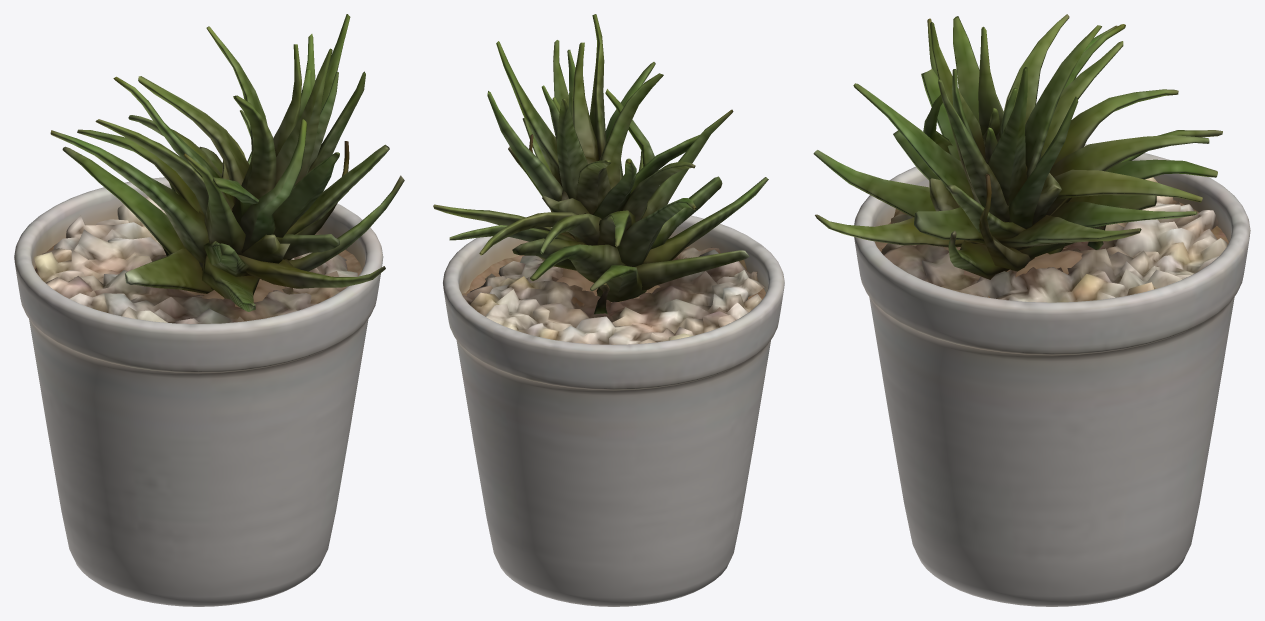
Rendered from potted_plant_04.gltf.
3 views of the same model, side by side, from view 1: azimuth 30°, elevation 25°; view 2: azimuth 150°, elevation 25°; view 3: azimuth 270°, elevation 25° (orthographic). The views are drawn at different scales.
Visible parts, largest first — view 1: potted_plant_04_pot, potted_plant_04_plant, potted_plant_04_ground, potted_plant_04_dirt; view 2: potted_plant_04_pot, potted_plant_04_plant, potted_plant_04_ground, potted_plant_04_dirt; view 3: potted_plant_04_pot, potted_plant_04_plant, potted_plant_04_ground, potted_plant_04_dirt.
Part boxes in pixels (box(x1,y1,x2,y2)): potted_plant_04_pot: box(14, 177, 383, 606); potted_plant_04_plant: box(50, 14, 404, 311); potted_plant_04_ground: box(34, 196, 357, 323); potted_plant_04_dirt: box(34, 238, 362, 307); potted_plant_04_pot: box(443, 215, 784, 606); potted_plant_04_plant: box(433, 14, 768, 314); potted_plant_04_ground: box(463, 247, 765, 344); potted_plant_04_dirt: box(462, 247, 765, 306); potted_plant_04_pot: box(854, 144, 1250, 606); potted_plant_04_plant: box(813, 14, 1222, 279); potted_plant_04_ground: box(881, 177, 1227, 302); potted_plant_04_dirt: box(875, 200, 1228, 297).
Size of the model in its own units: 0.1679 by 0.2675 by 0.1848.
Materials: 1 (1 with a texture image).
